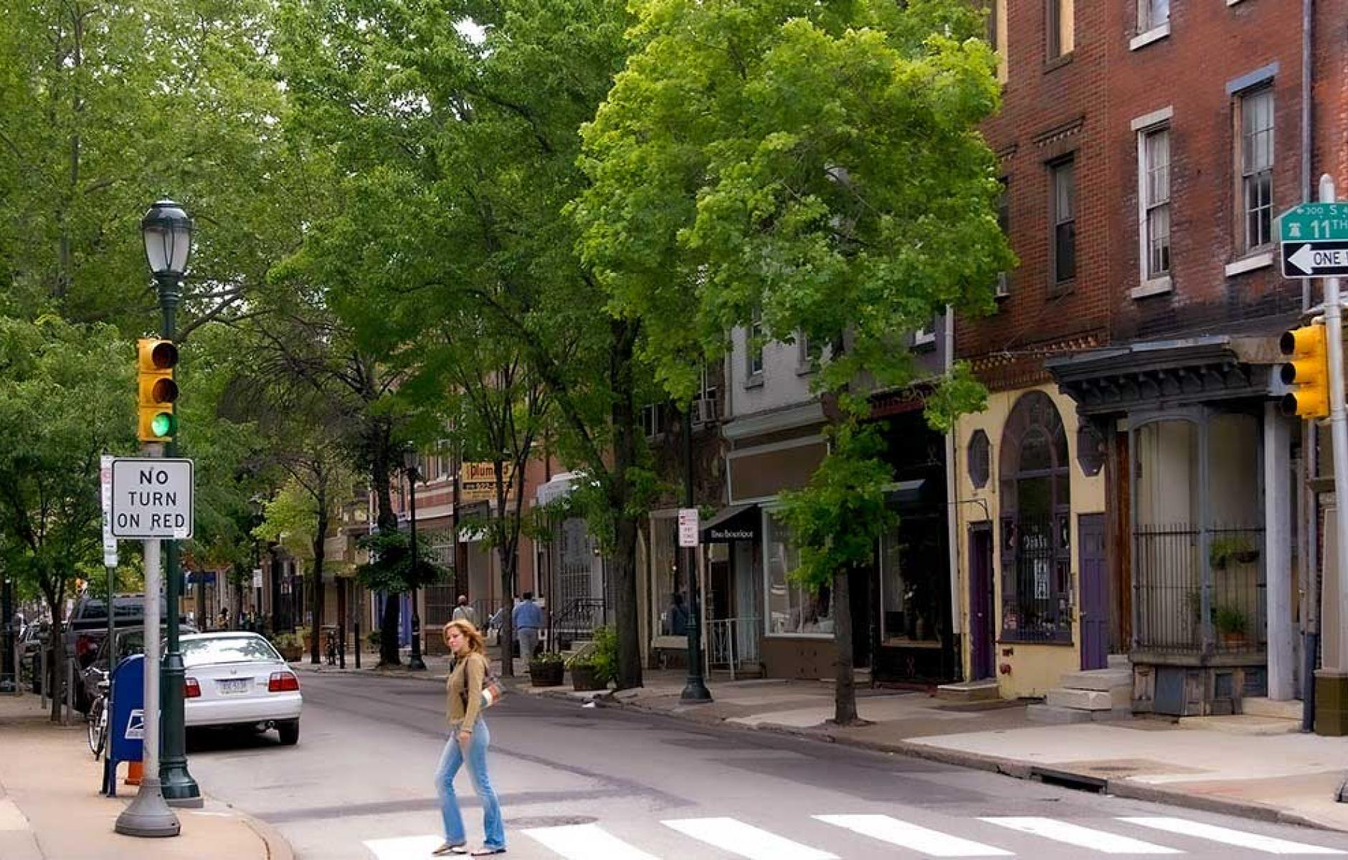Car: (153, 615, 331, 750)
Crosswalk: (579, 801, 1316, 860)
Person: (413, 614, 540, 851)
TraficLight: (118, 325, 192, 452)
Tree: (630, 1, 949, 742), (409, 36, 757, 702)
